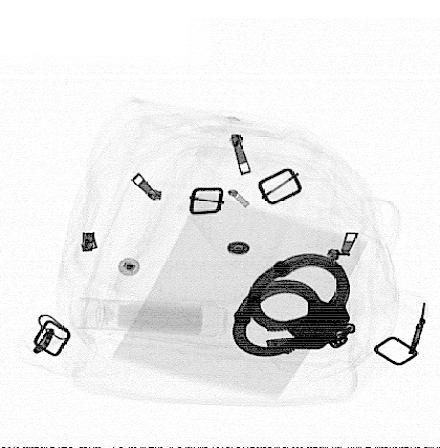HandCuffs: (230, 254, 361, 358)
